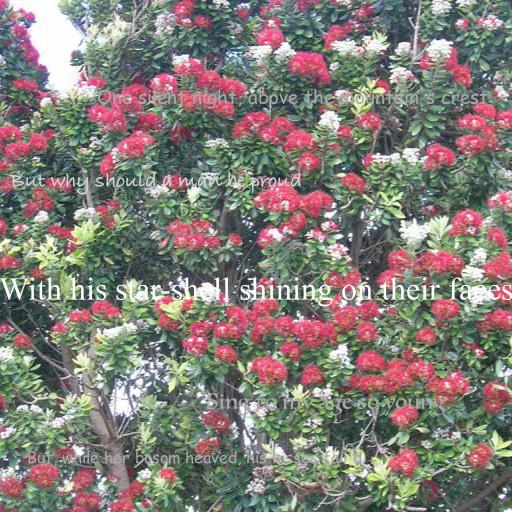Bradley Hand: (10, 171, 302, 195)
Comic Sans MS: (96, 88, 488, 109), (26, 450, 362, 466)
Luminari: (205, 392, 445, 416)
Times New Roman: (0, 277, 512, 307)
